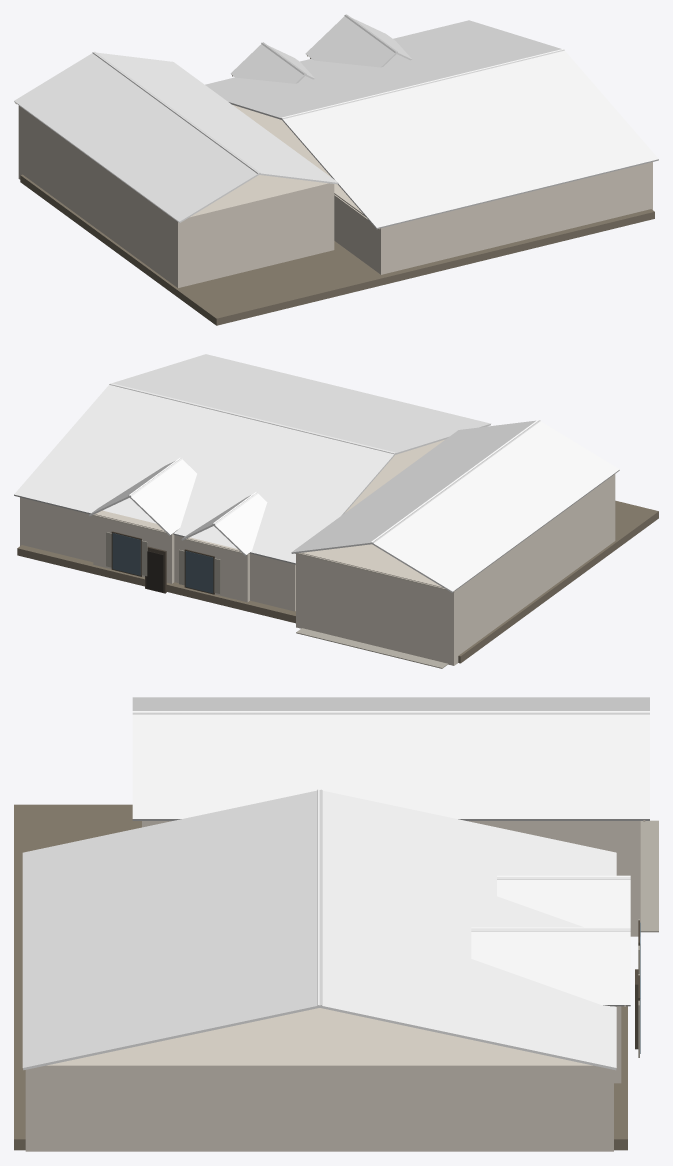
File: brownstone.glb
The picture shows the model from 3 angles, top to bottom: view 1: azimuth 30°, elevation 25°; view 2: azimuth 150°, elevation 25°; view 3: azimuth 270°, elevation 25°; orthographic projection. The views are drawn at different scales.
Visible parts, largest first — view 1: house-brownstone; view 2: house-brownstone; view 3: house-brownstone.
Boxes of the visible parts, x1,y1,x2,y2 form: house-brownstone: (14, 14, 658, 325); house-brownstone: (14, 354, 658, 668); house-brownstone: (14, 697, 658, 1151).
Bounding box in the file's own units: 27.61 × 6.27 × 22.14.
